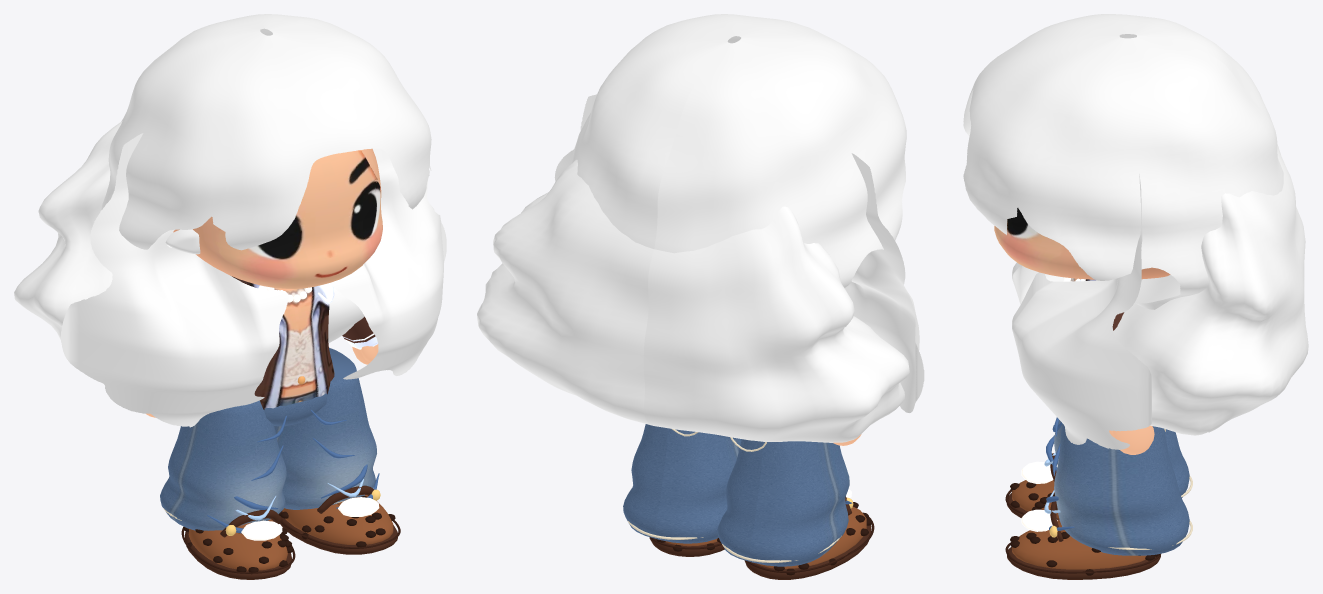
File: amber.glb
3 renders of one model, left to right at view 1: azimuth 30°, elevation 25°; view 2: azimuth 150°, elevation 25°; view 3: azimuth 270°, elevation 25°, orthographic. The views are drawn at different scales.
Visible parts, largest first — view 1: machi_head__hair, machi_head__lock1832_n, machi_head__face, machi_head__lock18537_n, machi_legR__jeans_tex, machi_head__hair_back, machi_legL__jeans_tex, machi_body__outfit, machi_legL__shoe, machi_legR__shoe, machi_legL__sole, machi_legR__sole (+8 smaller); view 2: machi_head__hair_back, machi_head__hair, machi_legR__jeans_tex, machi_legL__jeans_tex, machi_head__lock1832_n, machi_legR__sole, machi_legR__shoe, machi_legL__sole; view 3: machi_head__hair, machi_head__hair_back, machi_head__lock18537_n, machi_legL__jeans_tex, machi_head__face, machi_legL__shoe, machi_legL__sole, machi_legR__jeans_tex, machi_armL__skin, machi_legR__shoe, machi_head__lock1832_n, machi_legR__shoe_white (+2 smaller).
Boxes of the visible parts, box(x1,y1,x2,y2) form: machi_head__hair: box(101, 14, 431, 250); machi_head__lock1832_n: box(61, 133, 288, 427); machi_head__face: box(173, 148, 382, 288); machi_head__lock18537_n: box(330, 148, 446, 379); machi_legR__jeans_tex: box(160, 400, 286, 530); machi_head__hair_back: box(14, 121, 434, 342); machi_legL__jeans_tex: box(274, 347, 376, 509); machi_body__outfit: box(232, 276, 334, 409); machi_legL__shoe: box(282, 495, 393, 544); machi_legR__shoe: box(188, 519, 287, 570); machi_legL__sole: box(280, 485, 397, 554); machi_legR__sole: box(185, 509, 292, 579); machi_head__hair_back: box(477, 159, 909, 442); machi_head__hair: box(571, 14, 906, 287); machi_legR__jeans_tex: box(717, 439, 849, 566); machi_legL__jeans_tex: box(623, 424, 741, 543); machi_head__lock1832_n: box(845, 153, 924, 412); machi_legR__sole: box(744, 496, 871, 579); machi_legR__shoe: box(757, 506, 866, 568); machi_legL__sole: box(649, 538, 724, 556); machi_head__hair: box(963, 14, 1283, 309); machi_head__hair_back: box(1113, 144, 1308, 435); machi_head__lock18537_n: box(1012, 174, 1151, 449); machi_legL__jeans_tex: box(1054, 424, 1189, 555); machi_head__face: box(994, 208, 1170, 279); machi_legL__shoe: box(1012, 519, 1146, 569); machi_legL__sole: box(1007, 501, 1160, 579); machi_legR__jeans_tex: box(1054, 420, 1189, 497); machi_armL__skin: box(1109, 425, 1154, 454); machi_legR__shoe: box(1012, 480, 1059, 518); machi_head__lock1832_n: box(1012, 262, 1063, 304); machi_legR__shoe_white: box(1021, 461, 1053, 483).
Size of the model in its own units: 4.98 by 5.98 by 3.82.
26 materials, 12 textured.
